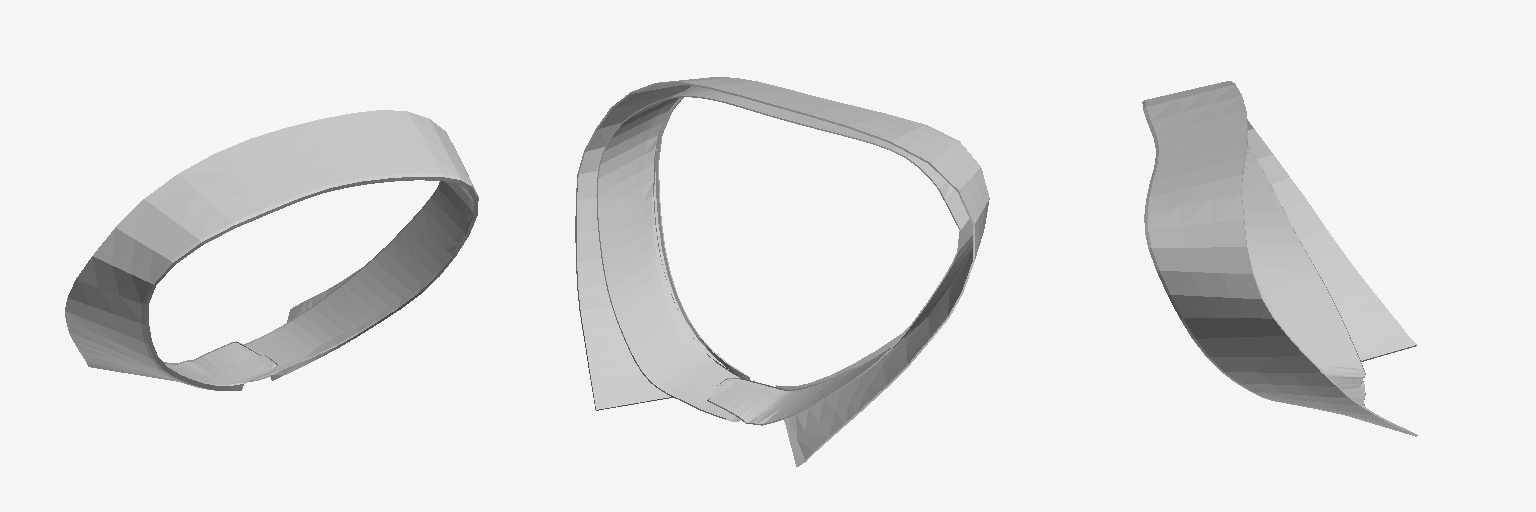
The model's file is low_semi_wide.obj.
3 renders of one model, left to right at view 1: azimuth 30°, elevation 25°; view 2: azimuth 150°, elevation 25°; view 3: azimuth 270°, elevation 25°, orthographic.
Parts seen in each view (by area): view 1: 5__low_semi_wide_2, inner_collar_out; view 2: 5__low_semi_wide_2, inner_collar_out; view 3: 5__low_semi_wide_2, inner_collar_out.
Part boxes in pixels (left/top/right/bottom): 5__low_semi_wide_2: left=65, top=110, right=478, bottom=390; inner_collar_out: left=164, top=181, right=472, bottom=384; 5__low_semi_wide_2: left=575, top=77, right=989, bottom=466; inner_collar_out: left=596, top=86, right=972, bottom=425; 5__low_semi_wide_2: left=1142, top=81, right=1417, bottom=436; inner_collar_out: left=1242, top=133, right=1365, bottom=405.
Size of the model in its own units: 17.88 by 12.14 by 11.